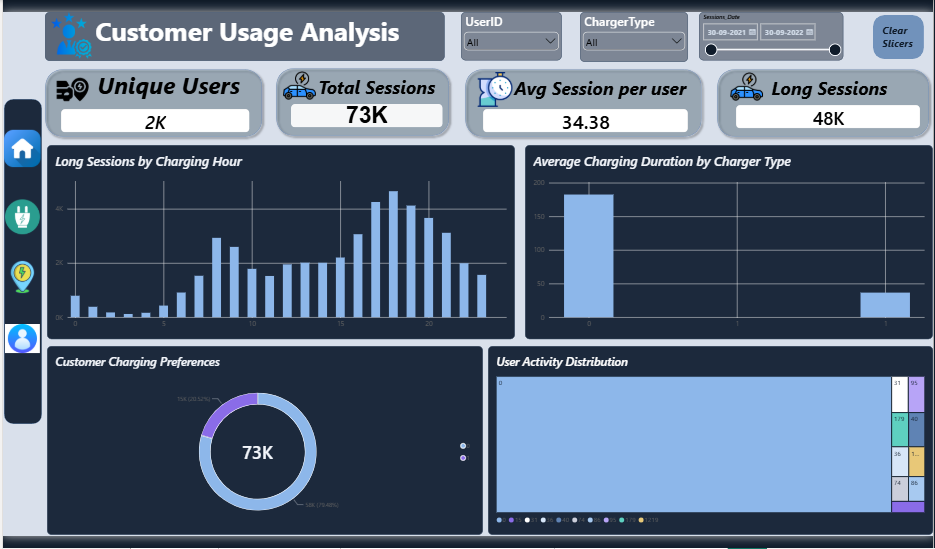

What the dashboard file says about the page in this screenshot:
{"tool":"powerbi","page":{"name":"customer usage analysis","canvas":[1920,1080],"ordinal":3},"visuals":[{"type":"group","id":"g1","title":"Group 1","box":[554.6,107.4,405.4,156.9],"z":0,"group":"g8"},{"type":"group","id":"g2","title":"Group 1","box":[78.3,109.4,498.4,156.9],"z":0,"group":"g7"},{"type":"group","id":"g3","title":"Group 1","box":[945.1,109.4,541.3,156.9],"z":0,"group":"g9"},{"type":"group","id":"g4","title":"Group 1","box":[1465.5,109.4,454.8,156.9],"z":0,"group":"g10"},{"type":"group","id":"g5","title":"Group 4","box":[1.9,179.6,78.6,671],"z":0},{"type":"shape","box":[2,179.6,78.5,671],"z":0,"group":"g5"},{"type":"group","id":"g6","title":"Group 5","box":[87.6,0,824.9,101.2],"z":1000},{"type":"textbox","box":[87.6,0,824.9,101.2],"z":1000,"group":"g6"},{"type":"image","box":[543,115,138.3,72.3],"z":1000,"group":"g8"},{"type":"image","box":[1451.4,117,168,72.3],"z":1000,"group":"g10"},{"type":"image","box":[57.8,124.8,171.9,72.3],"z":1000,"group":"g7"},{"type":"image","box":[922.8,124.8,186.7,72.3],"z":1000,"group":"g9"},{"type":"shape","box":[554.6,107.4,374.5,156.9],"z":2000,"group":"g1"},{"type":"group","id":"g7","title":"Group 2","box":[57.8,109.4,518.2,156.9],"z":2000},{"type":"shape","box":[78.3,109.4,465.4,156.9],"z":2000,"group":"g2"},{"type":"shape","box":[945.1,109.4,505.4,156.9],"z":2000,"group":"g3"},{"type":"shape","box":[1465.5,109.4,454.8,156.9],"z":2000,"group":"g4"},{"type":"group","id":"g8","title":"Group 2","box":[543,107.4,417,159],"z":3000},{"type":"textbox","box":[107,117.3,469.7,90.8],"z":3000,"group":"g2"},{"type":"textbox","box":[581.6,130.4,378.4,76.6],"z":3000,"group":"g1"},{"type":"textbox","box":[977.5,131.2,508.9,76.4],"z":3000,"group":"g3"},{"type":"textbox","box":[1497.9,131.2,353.1,76.4],"z":3000,"group":"g4"},{"type":"group","id":"g9","title":"Group 2","box":[922.8,109.4,561.5,159],"z":4000},{"type":"cardVisual","fields":{"Data":["ev_charging_analytics charging_sessions.total_sesions"]},"box":[593.4,191,313.5,48.1],"z":4000,"group":"g1"},{"type":"cardVisual","fields":{"Data":["ev_charging_analytics charging_sessions.Long Sessions"]},"box":[1512.6,193,380.7,48.1],"z":4000,"group":"g4"},{"type":"cardVisual","fields":{"Data":["ev_charging_analytics charging_sessions.Unique Users"]},"box":[120.4,200.8,389.6,48.1],"z":4000,"group":"g2"},{"type":"cardVisual","fields":{"Data":["ev_charging_analytics charging_sessions.Average Sessions per User"]},"box":[990.9,200.8,423.1,48.1],"z":4000,"group":"g3"},{"type":"group","id":"g10","title":"Group 2","box":[1451.4,109.4,468.6,156.9],"z":5000},{"type":"donutChart","title":"Customer Charging Preferences","fields":{"Category":["ev_charging_analytics charging_sessions.ChargerType"],"Y":["ev_charging_analytics charging_sessions.total_sesions"]},"box":[90.8,689.5,900.1,390.2],"z":6000},{"type":"clusteredColumnChart","title":"Average Charging Duration by Charger Type","fields":{"Category":["ev_charging_analytics charging_sessions.ChargerType"],"Y":["ev_charging_analytics charging_sessions.Average Duration"]},"box":[1077.7,274.6,842.3,400.5],"z":7000},{"type":"clusteredColumnChart","title":"Long Sessions by Charging Hour","fields":{"Category":["ev_charging_analytics charging_sessions.Starting Hour"],"Y":["ev_charging_analytics charging_sessions.Long Sessions"]},"box":[90.8,274.6,966.2,400.5],"z":8000},{"type":"treemap","title":"User Activity Distribution","fields":{"Values":["ev_charging_analytics charging_sessions.total_sesions"],"Details":["ev_charging_analytics charging_sessions.UserID"]},"box":[1001.3,689.5,918.7,390.2],"z":9000},{"type":"slicer","fields":{"Values":["ev_charging_analytics charging_sessions.UserID"]},"box":[945.5,0,208,100],"z":10000},{"type":"slicer","fields":{"Values":["ev_charging_analytics charging_sessions.ChargerType"]},"box":[1191.2,0,223,103.2],"z":11000},{"type":"slicer","fields":{"Values":["ev_charging_analytics charging_sessions.Sessions_Date"]},"box":[1436.9,0,297.5,100],"z":12000},{"type":"actionButton","box":[1796.1,6.2,105.3,90.8],"z":13000},{"type":"image","box":[2,232,76.4,101.2],"z":16000,"group":"g5"},{"type":"image","box":[4.1,380.7,72.3,86.7],"z":17000,"group":"g5"},{"type":"image","box":[1.9,512.8,76.4,70.2],"z":18000,"group":"g5"},{"type":"image","box":[4.1,644.9,72.3,59.9],"z":19000,"group":"g5"},{"type":"image","box":[91.8,0,101.9,97],"z":19002,"group":"g6"}]}

Visuals, with their boxes on the page's 1920x1080 design canvas (x1, y1, x2, y2). These are canvas units, not pixel positions in the 935x549 screenshot, which may show the page scaled, cropped or inside an application window:
"Group 1" group: x1=555, y1=107, x2=960, y2=264
"Group 1" group: x1=78, y1=109, x2=577, y2=266
"Group 1" group: x1=945, y1=109, x2=1486, y2=266
"Group 1" group: x1=1466, y1=109, x2=1920, y2=266
"Group 4" group: x1=2, y1=180, x2=80, y2=851
shape: x1=2, y1=180, x2=80, y2=851
"Group 5" group: x1=88, y1=0, x2=912, y2=101
textbox: x1=88, y1=0, x2=912, y2=101
image: x1=543, y1=115, x2=681, y2=187
image: x1=1451, y1=117, x2=1619, y2=189
image: x1=58, y1=125, x2=230, y2=197
image: x1=923, y1=125, x2=1110, y2=197
shape: x1=555, y1=107, x2=929, y2=264
"Group 2" group: x1=58, y1=109, x2=576, y2=266
shape: x1=78, y1=109, x2=544, y2=266
shape: x1=945, y1=109, x2=1450, y2=266
shape: x1=1466, y1=109, x2=1920, y2=266
"Group 2" group: x1=543, y1=107, x2=960, y2=266
textbox: x1=107, y1=117, x2=577, y2=208
textbox: x1=582, y1=130, x2=960, y2=207
textbox: x1=978, y1=131, x2=1486, y2=208
textbox: x1=1498, y1=131, x2=1851, y2=208
"Group 2" group: x1=923, y1=109, x2=1484, y2=268
cardVisual - ev_charging_analytics charging_sessions.total_sesions: x1=593, y1=191, x2=907, y2=239
cardVisual - ev_charging_analytics charging_sessions.Long Sessions: x1=1513, y1=193, x2=1893, y2=241
cardVisual - ev_charging_analytics charging_sessions.Unique Users: x1=120, y1=201, x2=510, y2=249
cardVisual - ev_charging_analytics charging_sessions.Average Sessions per User: x1=991, y1=201, x2=1414, y2=249
"Group 2" group: x1=1451, y1=109, x2=1920, y2=266
"Customer Charging Preferences" donutChart: x1=91, y1=690, x2=991, y2=1080
"Average Charging Duration by Charger Type" clusteredColumnChart: x1=1078, y1=275, x2=1920, y2=675
"Long Sessions by Charging Hour" clusteredColumnChart: x1=91, y1=275, x2=1057, y2=675
"User Activity Distribution" treemap: x1=1001, y1=690, x2=1920, y2=1080
slicer - ev_charging_analytics charging_sessions.UserID: x1=946, y1=0, x2=1154, y2=100
slicer - ev_charging_analytics charging_sessions.ChargerType: x1=1191, y1=0, x2=1414, y2=103
slicer - ev_charging_analytics charging_sessions.Sessions_Date: x1=1437, y1=0, x2=1734, y2=100
actionButton: x1=1796, y1=6, x2=1901, y2=97
image: x1=2, y1=232, x2=78, y2=333
image: x1=4, y1=381, x2=76, y2=467
image: x1=2, y1=513, x2=78, y2=583
image: x1=4, y1=645, x2=76, y2=705
image: x1=92, y1=0, x2=194, y2=97
